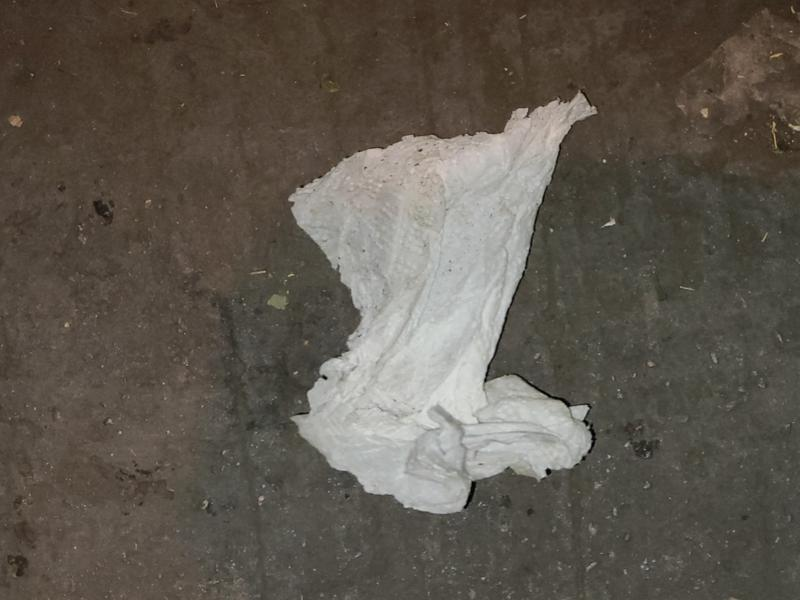papel: (287, 92, 598, 518)
